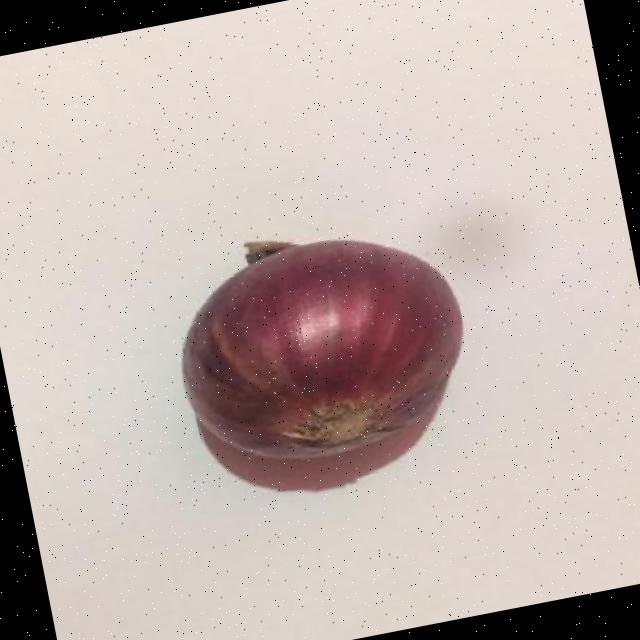Onion: (181, 241, 460, 460)
